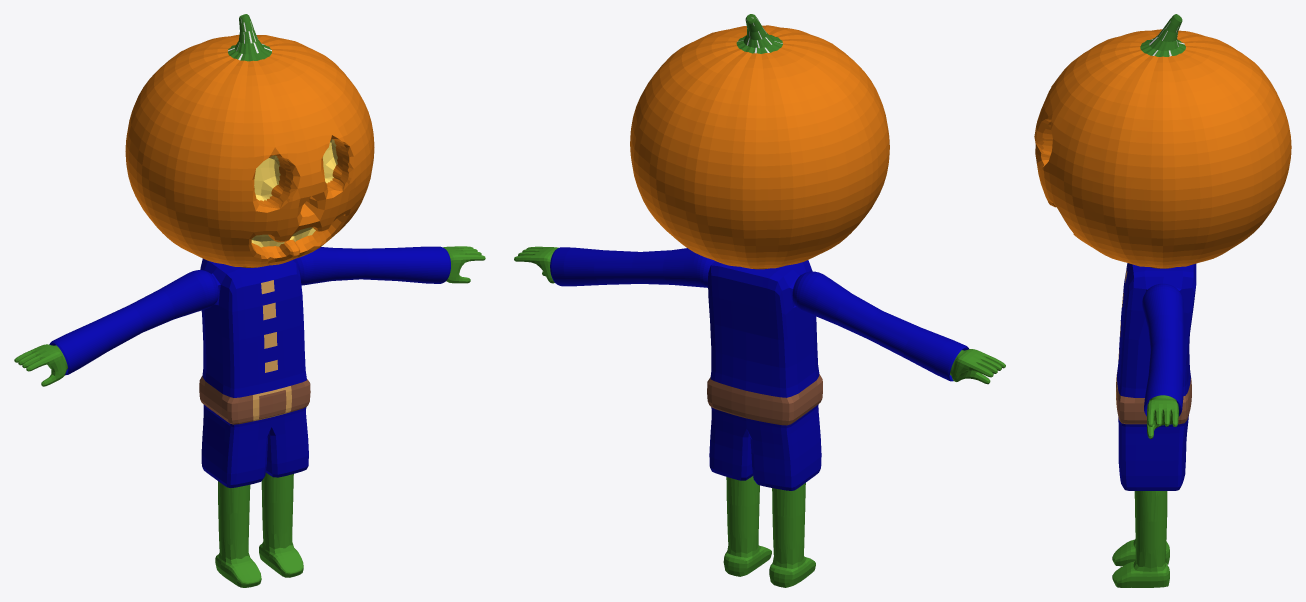
Rendered from Pumpkin.fbx.
The picture shows the model from 3 angles, left to right: view 1: azimuth 30°, elevation 25°; view 2: azimuth 150°, elevation 25°; view 3: azimuth 270°, elevation 25°; orthographic projection. The views are drawn at different scales.
Visible parts, largest first — view 1: Cube.001; view 2: Cube.001; view 3: Cube.001.
Part boxes in pixels (x1,y1,x2,y2): Cube.001: [14, 14, 485, 587]; Cube.001: [514, 14, 1005, 587]; Cube.001: [1034, 14, 1291, 587].
Size of the model in its own units: 255 by 289 by 121.
